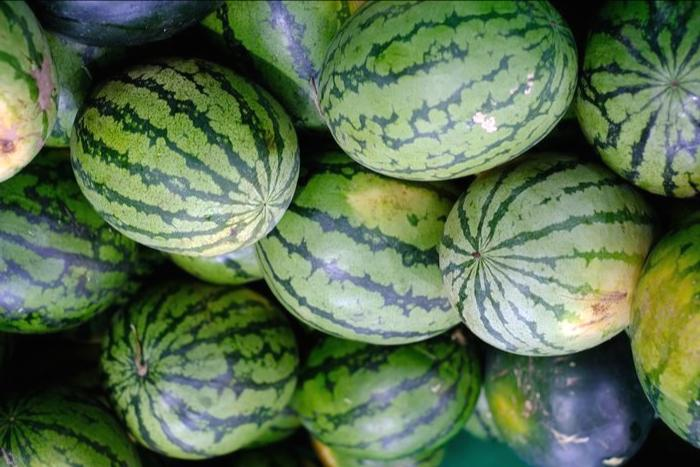dua_hau: (68, 41, 298, 258), (316, 0, 572, 183), (105, 280, 296, 456)
